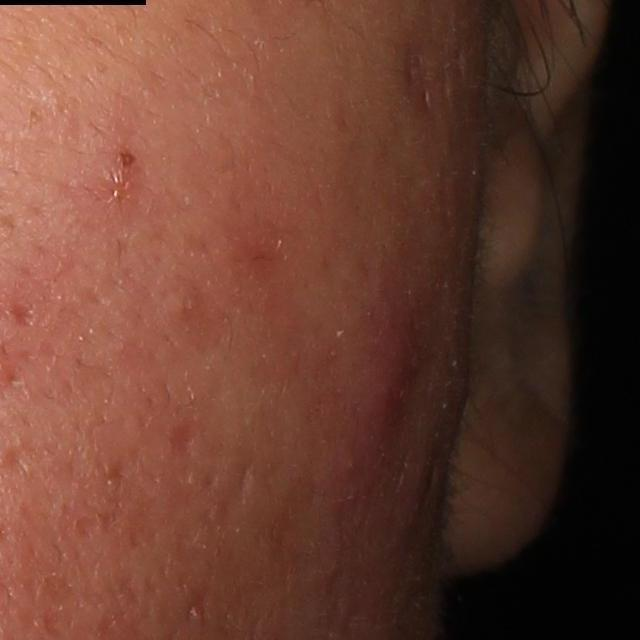atrophic_scar: (180, 577, 217, 630), (170, 420, 200, 458), (228, 461, 258, 499)
comedo: (163, 288, 212, 323)
